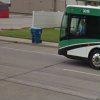Bus: (58, 2, 100, 71)
